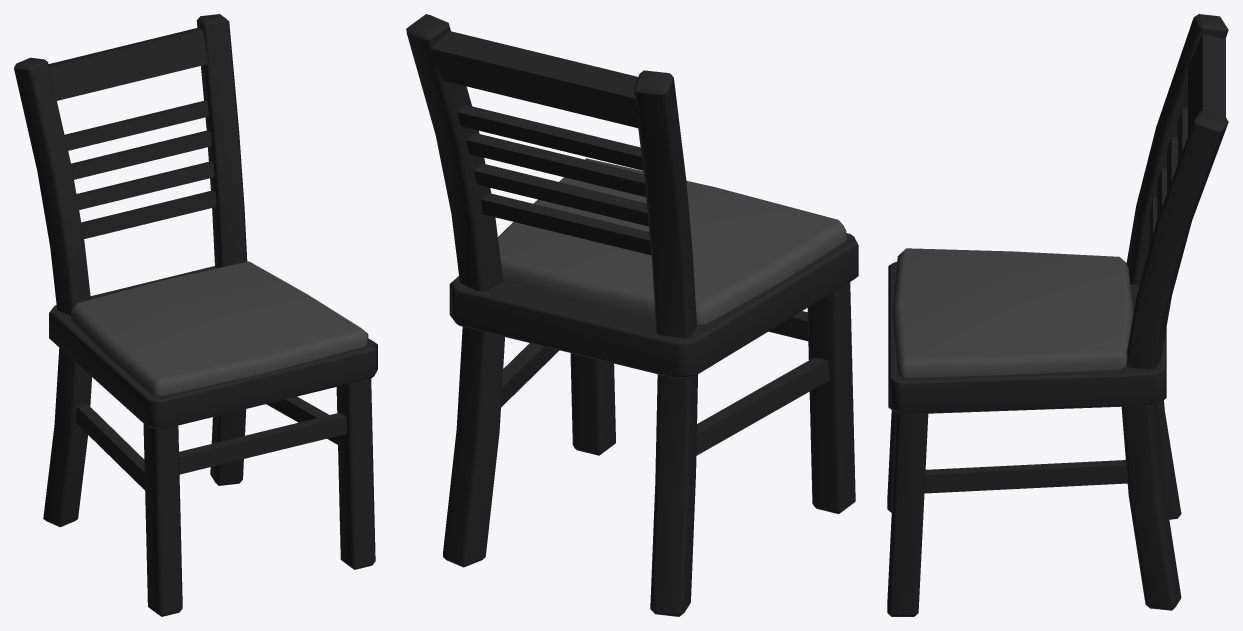
Rendered from chair_051.fbx.
The picture shows the model from 3 angles, left to right: view 1: azimuth 30°, elevation 25°; view 2: azimuth 150°, elevation 25°; view 3: azimuth 270°, elevation 25°; orthographic projection. The views are drawn at different scales.
Parts seen in each view (by area): view 1: chair_051; view 2: chair_051; view 3: chair_051.
Part boxes in pixels (x1,y1,x2,y2): chair_051: [14, 14, 377, 616]; chair_051: [406, 14, 858, 616]; chair_051: [887, 14, 1228, 616].
Size of the model in its own units: 65 by 75.24 by 120.
